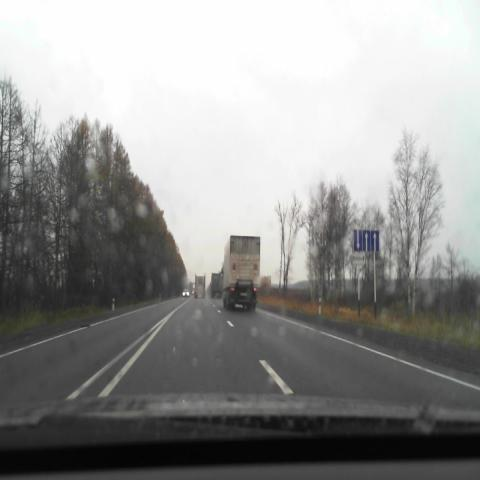5_15_7: (354, 229, 380, 252)
8_2_1: (352, 253, 366, 264)
